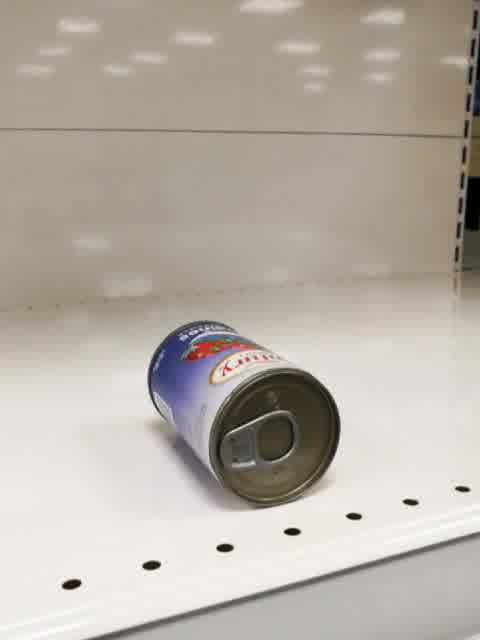sardine: (146, 320, 341, 507)
